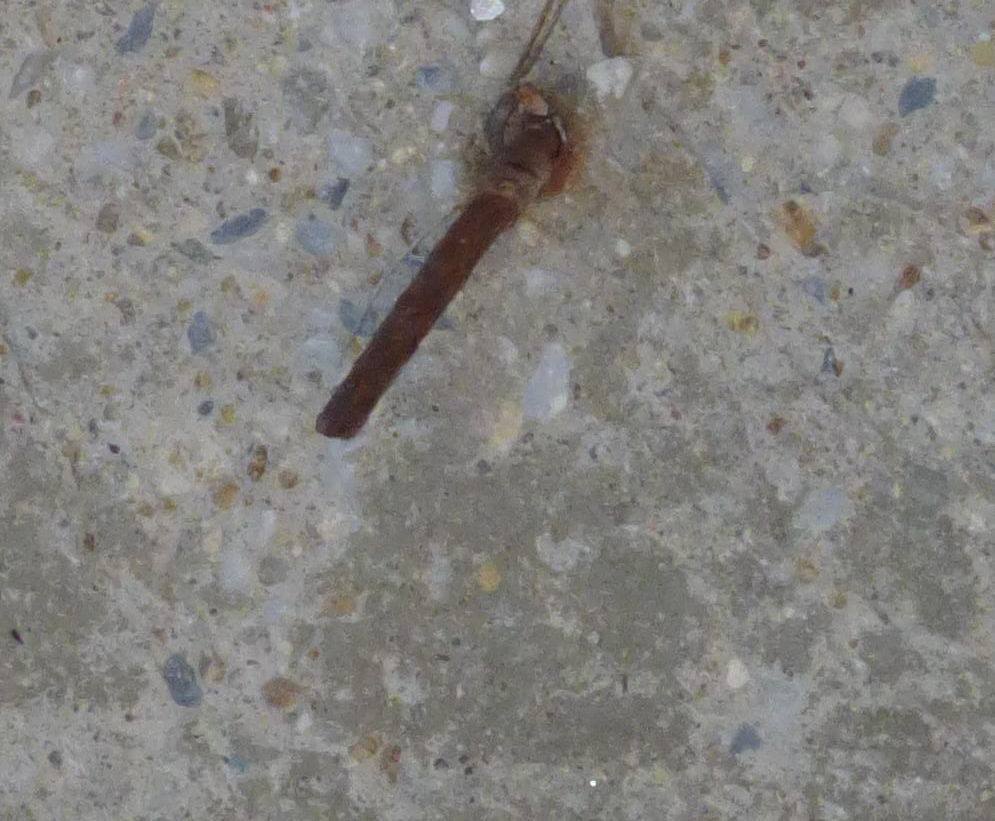Exposed reinforcement: (314, 128, 559, 441)
